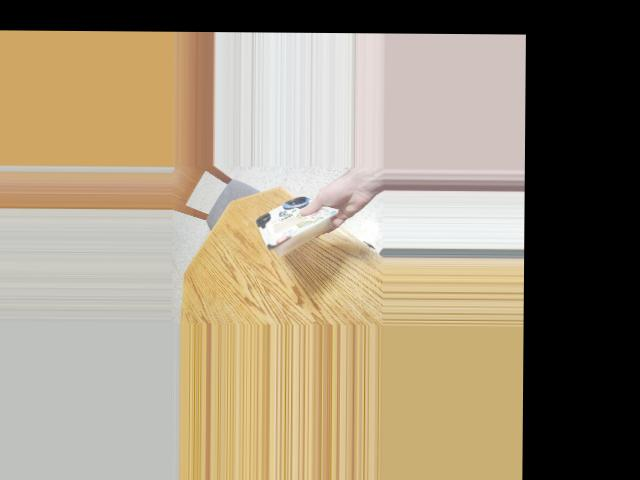cheese: (259, 185, 325, 263)
